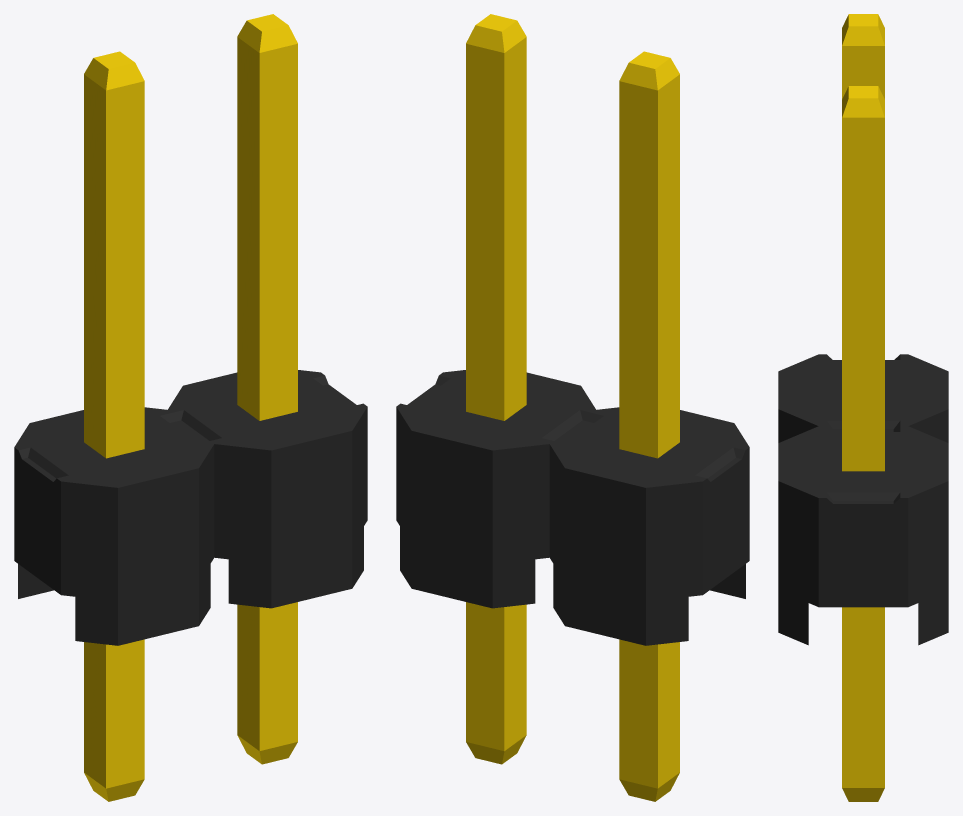
File: PLS2.glb
The picture shows the model from 3 angles, left to right: view 1: azimuth 30°, elevation 25°; view 2: azimuth 150°, elevation 25°; view 3: azimuth 270°, elevation 25°; orthographic projection. The views are drawn at different scales.
Visible parts, largest first — view 1: PLS (DS1021 CONNFLY); view 2: PLS (DS1021 CONNFLY); view 3: PLS (DS1021 CONNFLY).
Boxes of the visible parts, x1,y1,x2,y2 form: PLS (DS1021 CONNFLY): (14, 14, 367, 801); PLS (DS1021 CONNFLY): (396, 14, 749, 801); PLS (DS1021 CONNFLY): (778, 14, 948, 801).
Size of the model in its own units: 0.00508 by 0.0116 by 0.00254.
